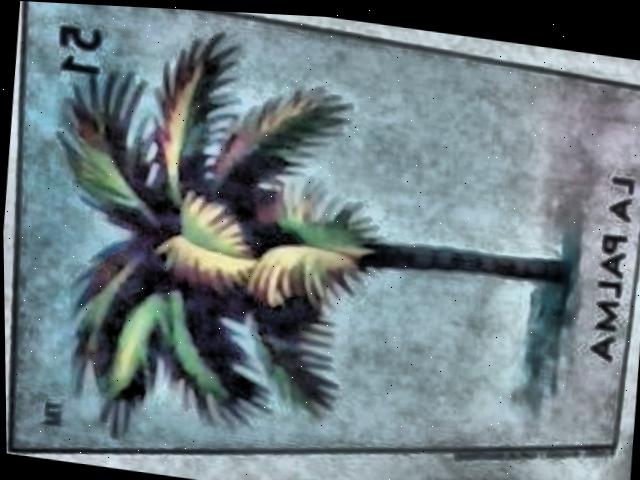La Palma: (8, 1, 640, 448)
